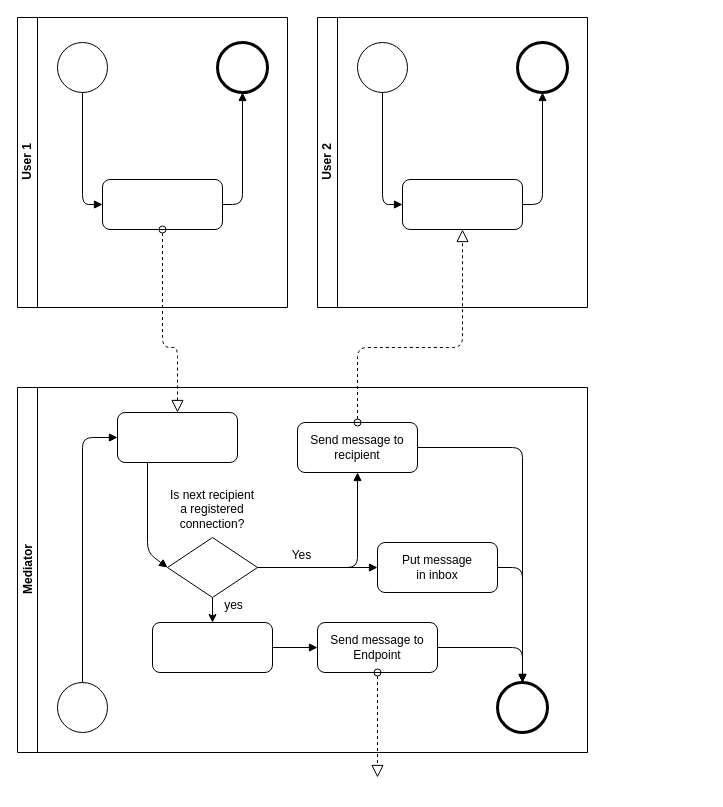
Image size: 723x807. Some labels were removed from this diagram. The centre of each missing label's shape, as x and y in pixels:
Get Endpoint of DID: point (212, 647)
Receive forward-message: point (177, 437)
Receive message: point (462, 204)
Send forward-message: point (162, 204)
